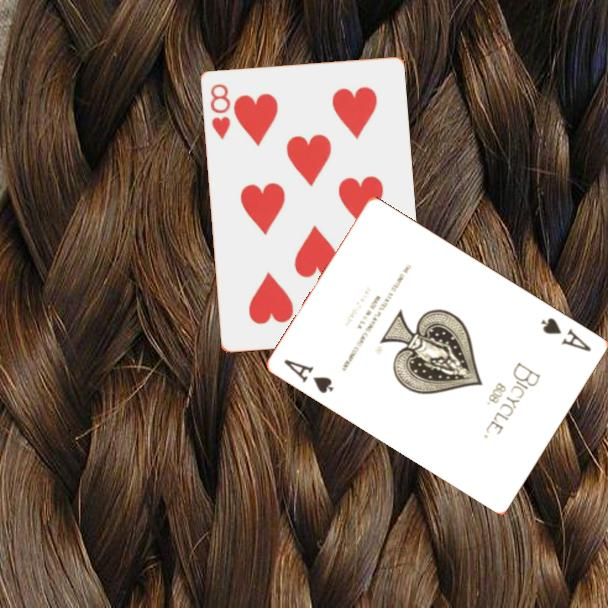h08: (206, 80, 233, 142)
s01: (280, 355, 337, 397), (538, 314, 595, 355)
